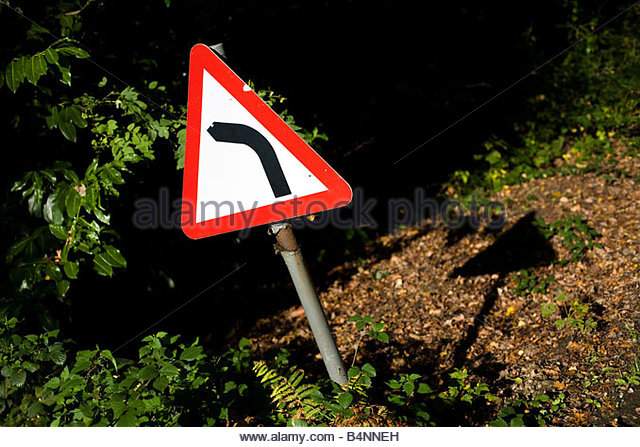Bend_to_left: (167, 40, 363, 244)
